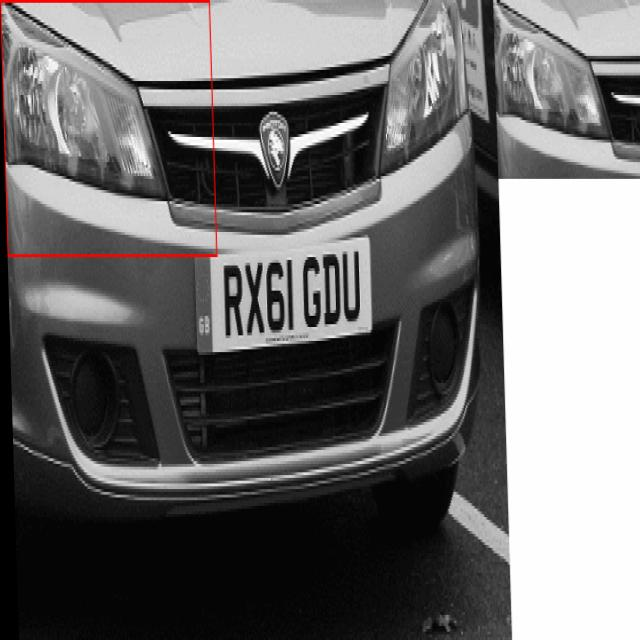licence: (199, 224, 369, 336)
